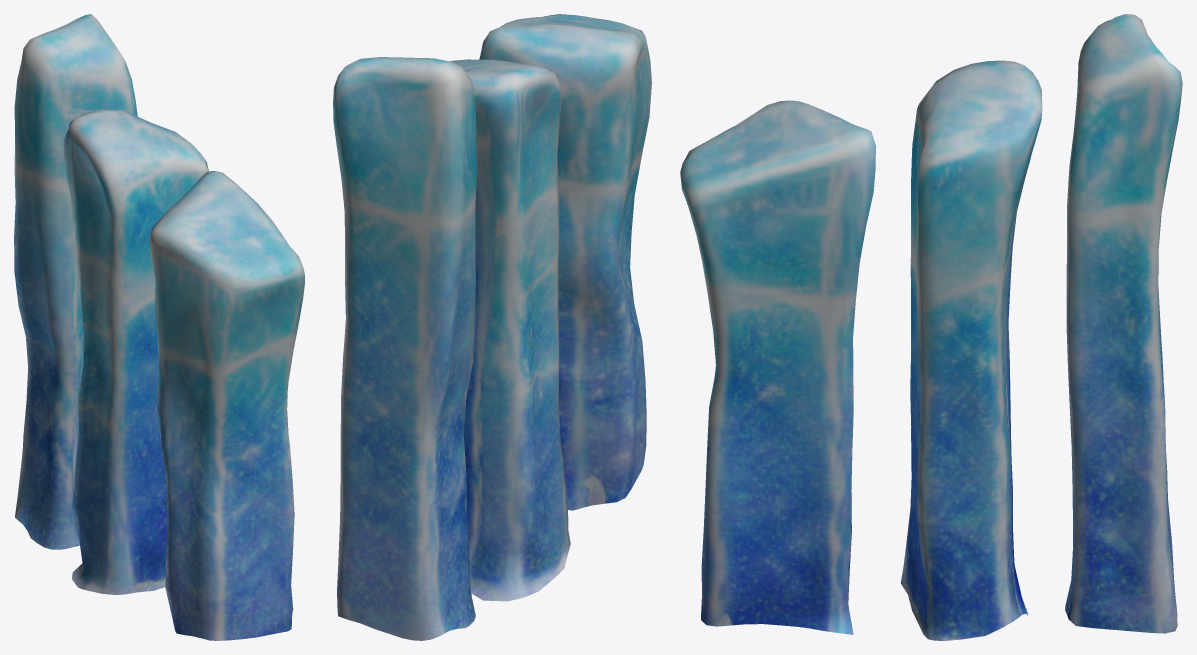
Rendered from Pilares de hielo.fbx.
3 renders of one model, left to right at view 1: azimuth 30°, elevation 25°; view 2: azimuth 150°, elevation 25°; view 3: azimuth 270°, elevation 25°, orthographic. The views are drawn at different scales.
Visible parts, largest first — view 1: polySurface2, polySurface1, polySurface3; view 2: polySurface3, polySurface1, polySurface2; view 3: polySurface2, polySurface1, polySurface3.
Boxes of the visible parts, <box> form: polySurface2: <box>149,171,304,640</box>; polySurface1: <box>63,109,208,594</box>; polySurface3: <box>14,14,137,549</box>; polySurface3: <box>333,57,477,640</box>; polySurface1: <box>450,59,570,601</box>; polySurface2: <box>479,14,651,510</box>; polySurface2: <box>680,100,875,634</box>; polySurface1: <box>900,60,1042,640</box>; polySurface3: <box>1065,14,1182,633</box>.
Size of the model in its own units: 998 by 4084 by 3129.
